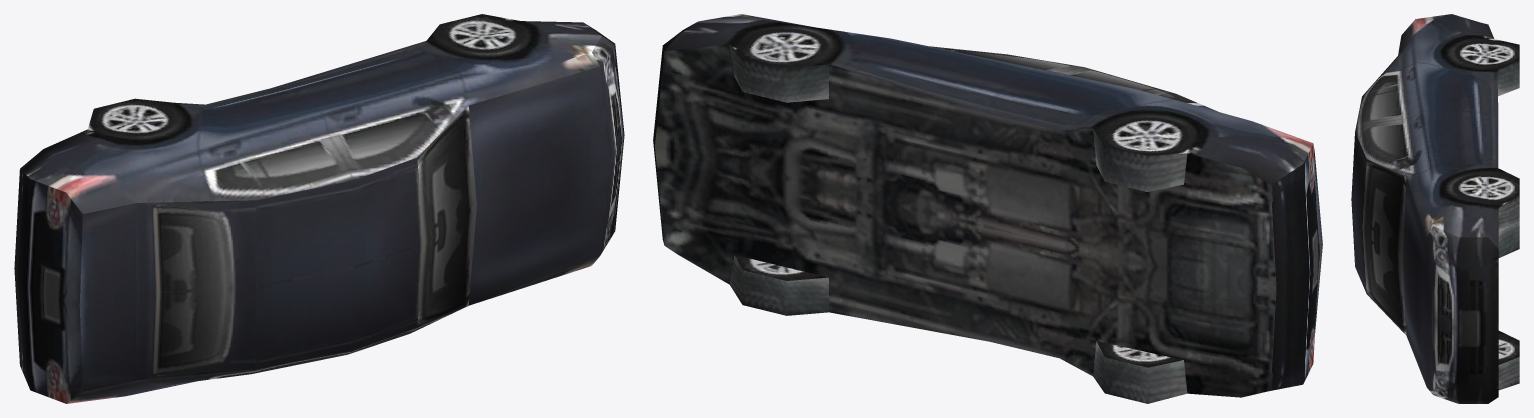
File: ny_harbor_veh_civ_car_a_7_LOD0.obj
3 renders of one model, left to right at view 1: azimuth 30°, elevation 25°; view 2: azimuth 150°, elevation 25°; view 3: azimuth 270°, elevation 25°, orthographic. The views are drawn at different scales.
Parts seen in each view (by area): view 1: mtl_ac_prs_vehicle_sheet_a; view 2: mtl_ac_prs_vehicle_sheet_a; view 3: mtl_ac_prs_vehicle_sheet_a.
Boxes of the visible parts, x1=… form: mtl_ac_prs_vehicle_sheet_a: x1=14, y1=14, x2=624, y2=403; mtl_ac_prs_vehicle_sheet_a: x1=653, y1=14, x2=1322, y2=403; mtl_ac_prs_vehicle_sheet_a: x1=1351, y1=14, x2=1519, y2=403.
Bounding box in the file's own units: 527 × 198 × 160.
